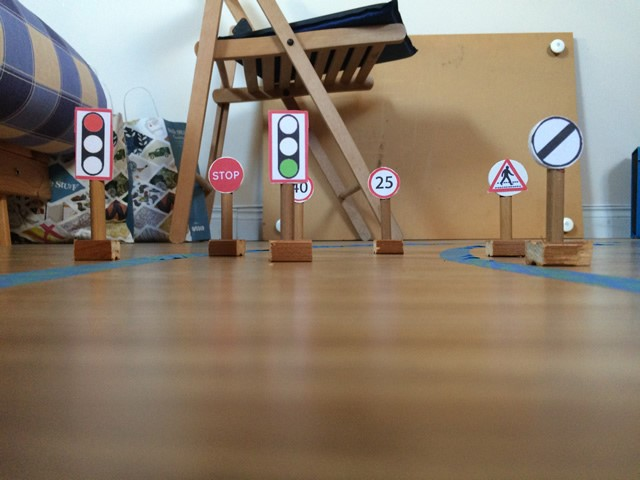Green Traffic Light: (267, 108, 307, 183)
Person Crossing: (487, 158, 530, 195)
Red Traffic Light: (73, 106, 114, 179)
Speed Limit 25: (365, 167, 403, 201)
Speed Limit 60: (531, 118, 584, 166)
Stop Sign: (208, 156, 244, 192)
